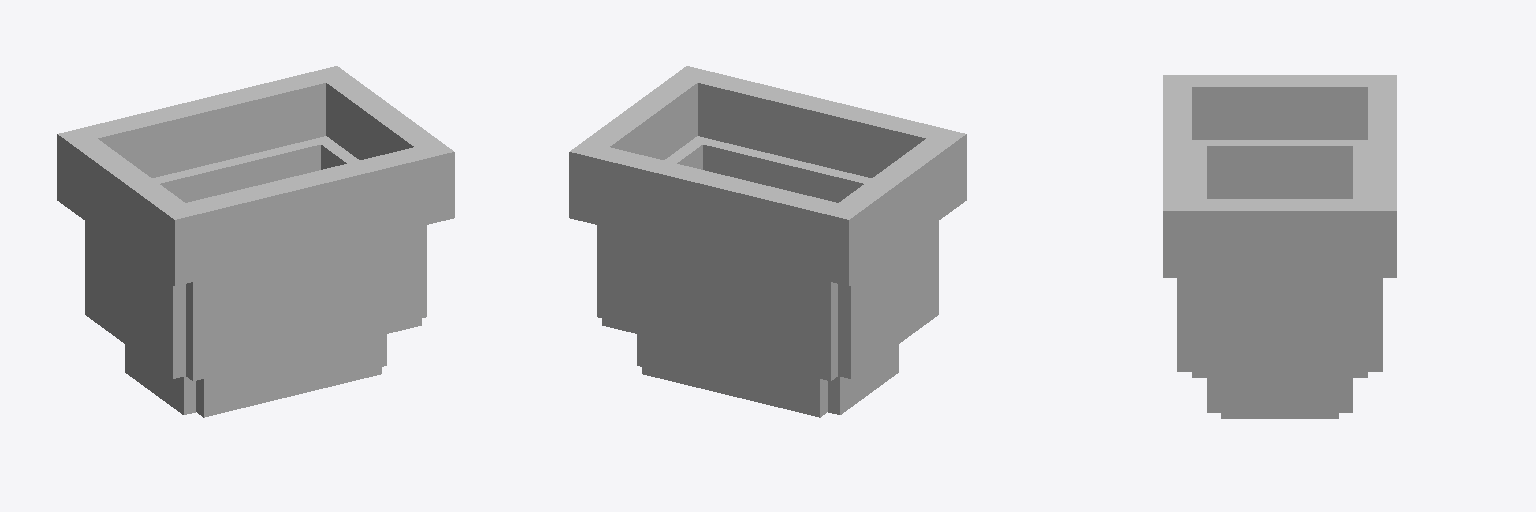
The model's file is Kart-4.obj.
3 views of the same model, side by side, from view 1: azimuth 30°, elevation 25°; view 2: azimuth 150°, elevation 25°; view 3: azimuth 270°, elevation 25° (orthographic).
Parts seen in each view (by area): view 1: Kart-4.001; view 2: Kart-4.001; view 3: Kart-4.001.
Part boxes in pixels (x1,y1,x2,y2): Kart-4.001: (57,66,454,417); Kart-4.001: (569,66,966,417); Kart-4.001: (1163,75,1396,418).
Bounding box in the file's own units: 2.2 × 1.7 × 1.6.